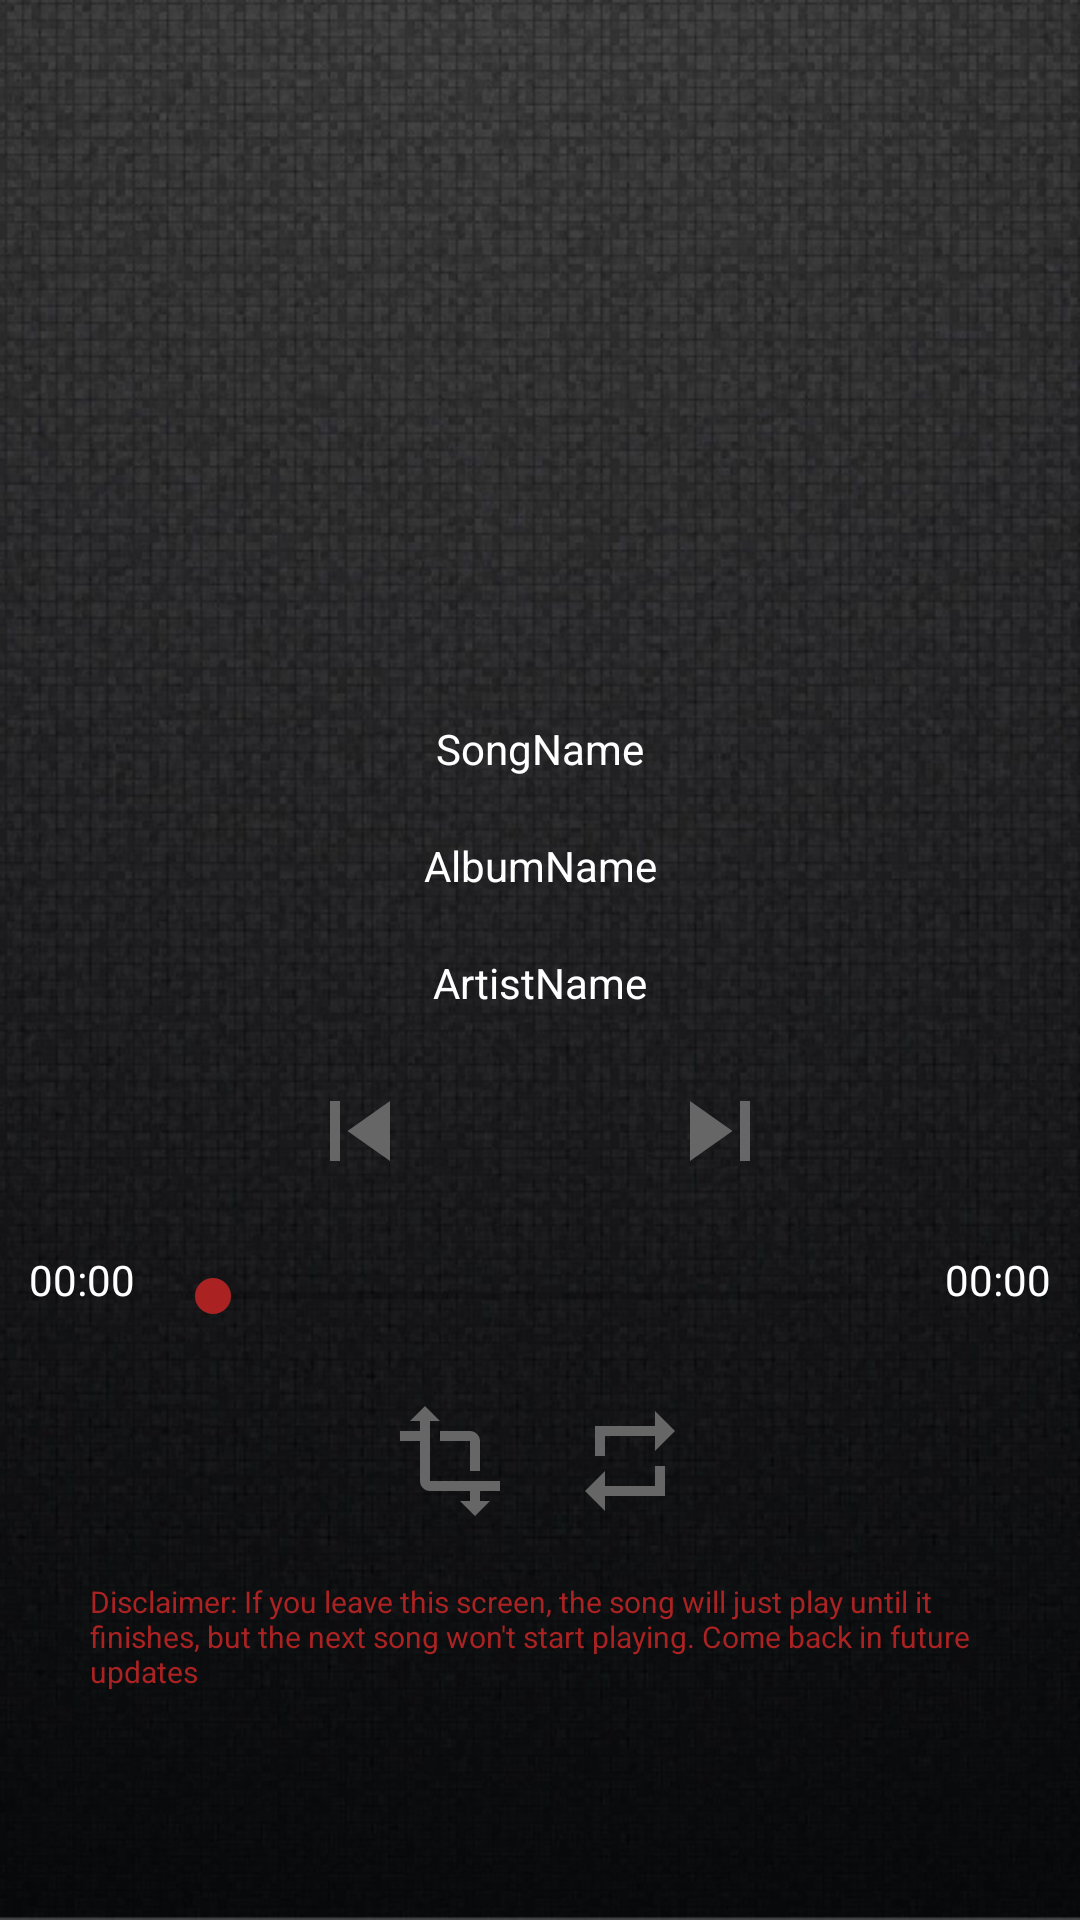

Where to tap for icons on this 1080px×1920px app screen, as (x=x, y=y):
next: (x=720, y=1131)
previous: (x=360, y=1131)
repeat off: (x=630, y=1461)
